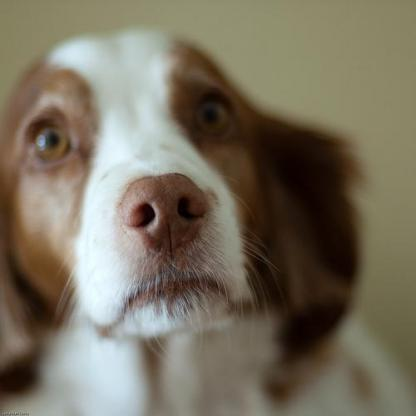Brittany_spaniel: (0, 23, 414, 414)
